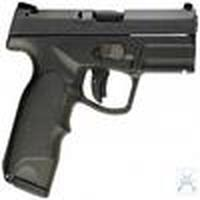gun: (1, 5, 200, 185)
